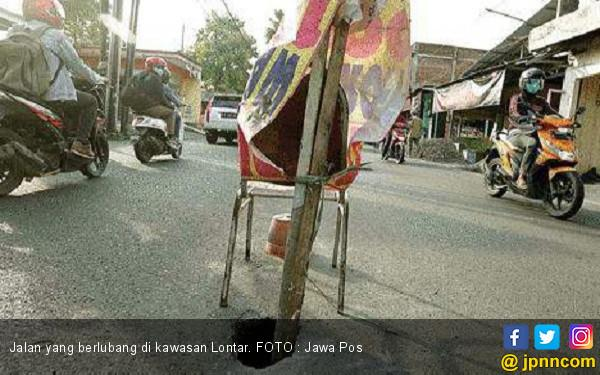Pothole: (209, 288, 304, 369)
